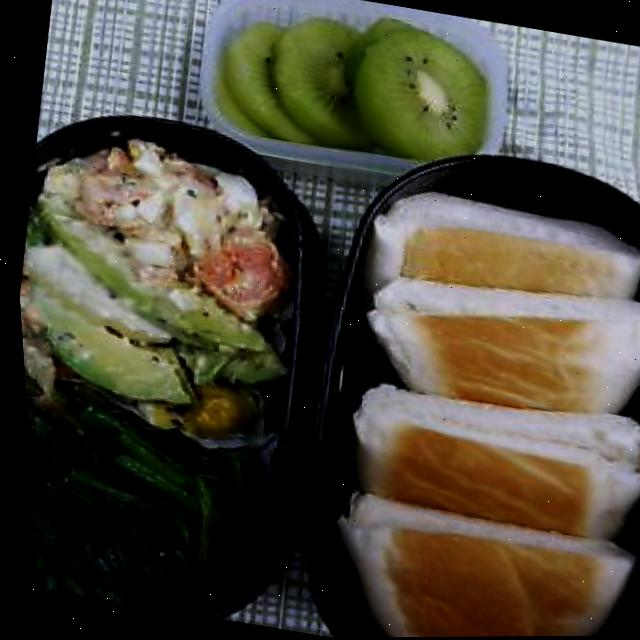蔬菜料理: (19, 365, 316, 632)
